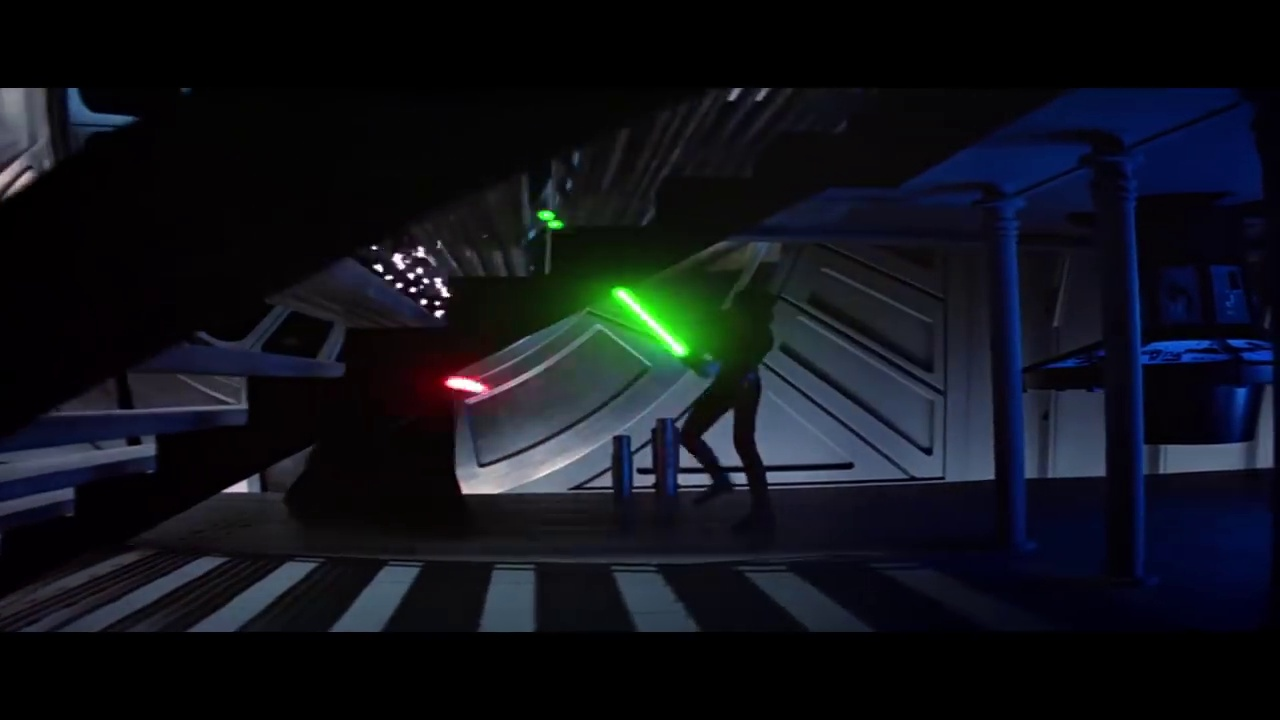lightsaber: (608, 276, 709, 384)
